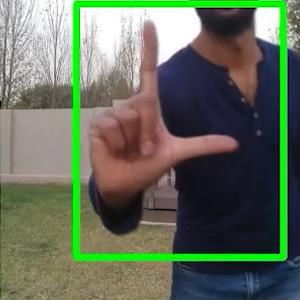land_hand: (84, 14, 243, 197)
